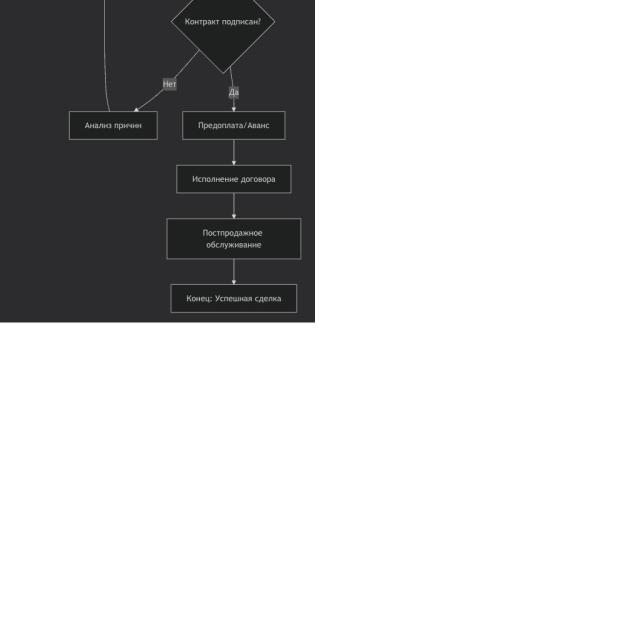arrow: (134, 49, 200, 112), (229, 68, 238, 112), (232, 260, 237, 285), (232, 141, 237, 165), (231, 195, 236, 219)
rectangle: (167, 218, 301, 259), (171, 284, 297, 313), (177, 165, 291, 193), (183, 111, 285, 140), (69, 112, 157, 139)
text_region: (163, 79, 176, 90), (228, 87, 239, 100)
